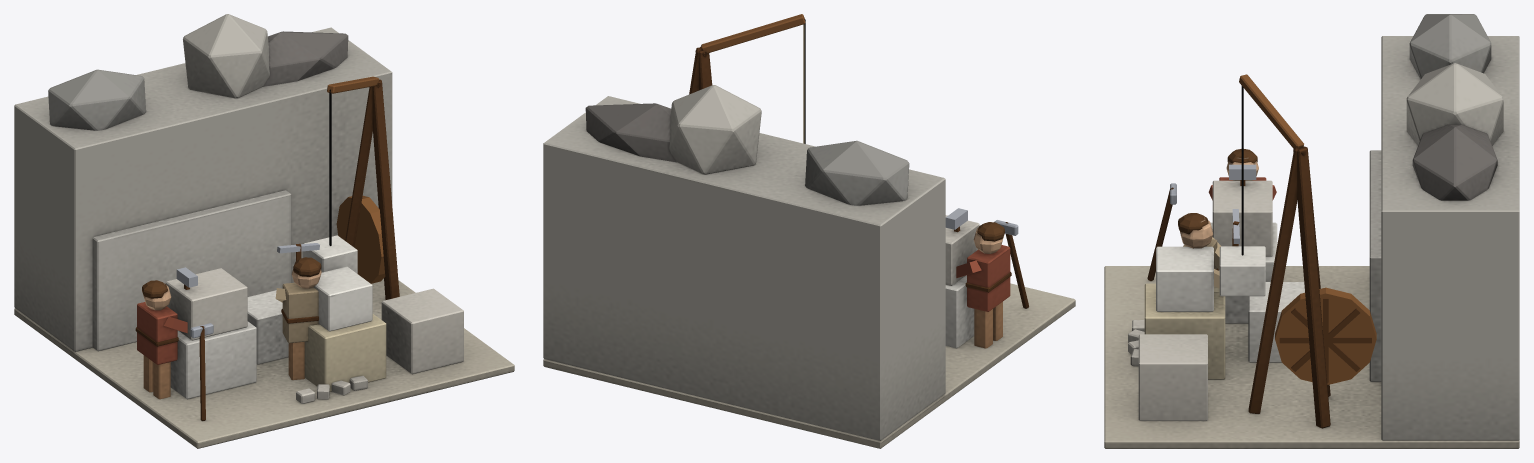
File: kamieniolom.glb
3 views of the same model, side by side, from view 1: azimuth 30°, elevation 25°; view 2: azimuth 150°, elevation 25°; view 3: azimuth 270°, elevation 25° (orthographic). The views are drawn at different scales.
Visible parts, largest first — view 1: kamieniolom, anim_obrot_x_kolo, anim_mlot_ciosacz, anim_mlot_kamieniarz; view 2: kamieniolom, anim_mlot_ciosacz; view 3: kamieniolom, anim_obrot_x_kolo, anim_mlot_ciosacz, anim_mlot_kamieniarz.
Part boxes in pixels (x1,y1,x2,y2): kamieniolom: (14, 14, 514, 448); anim_obrot_x_kolo: (336, 195, 385, 283); anim_mlot_ciosacz: (164, 267, 197, 333); anim_mlot_kamieniarz: (275, 243, 319, 302); kamieniolom: (543, 14, 1075, 448); anim_mlot_ciosacz: (945, 208, 981, 277); kamieniolom: (1104, 14, 1519, 448); anim_obrot_x_kolo: (1275, 287, 1376, 384); anim_mlot_ciosacz: (1208, 164, 1276, 200); anim_mlot_kamieniarz: (1212, 209, 1239, 288).
Size of the model in its own units: 1.8 by 1.49 by 1.8.
Materials: 7 (1 with a texture image).
